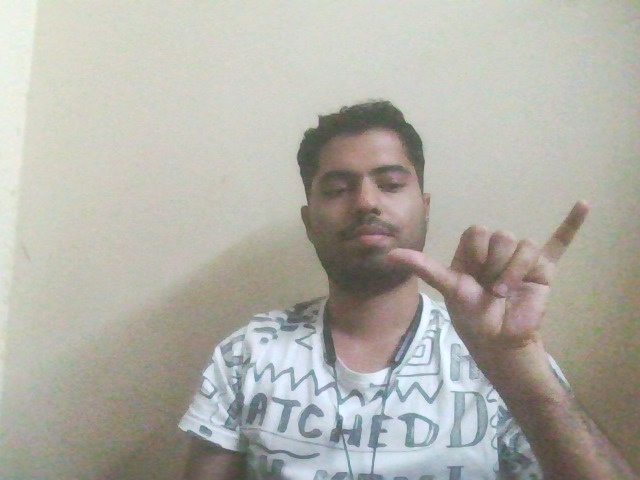Please: (387, 193, 615, 384)
